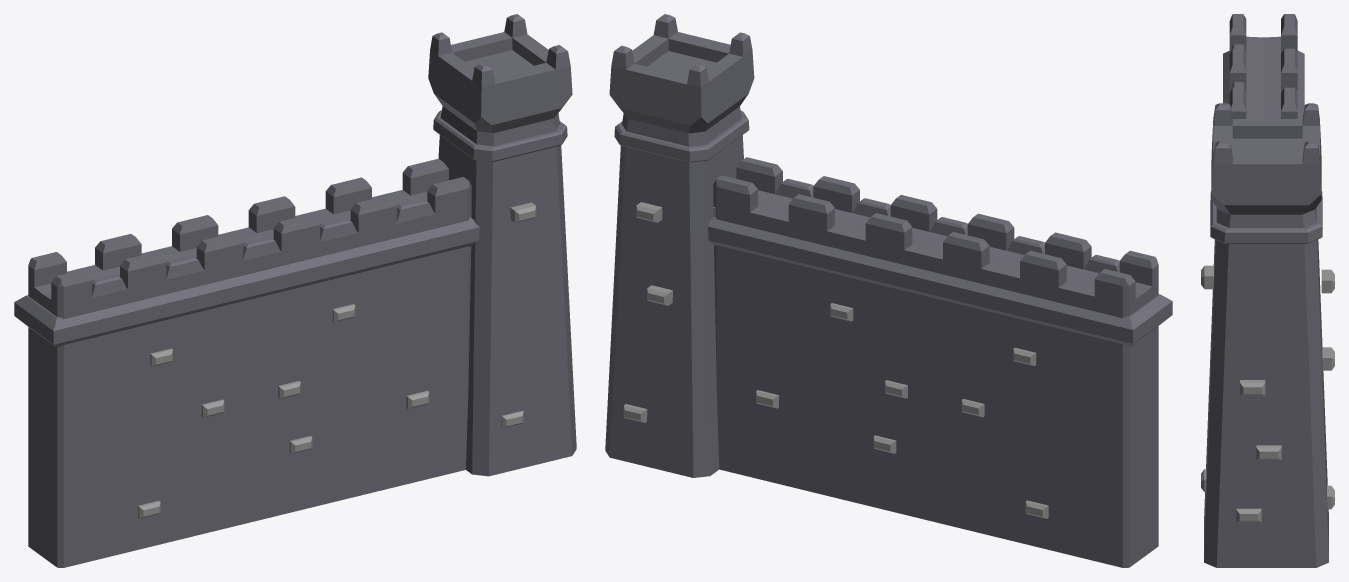
File: StoneWall#1.fbx
3 views of the same model, side by side, from view 1: azimuth 30°, elevation 25°; view 2: azimuth 150°, elevation 25°; view 3: azimuth 270°, elevation 25° (orthographic). The views are drawn at different scales.
Visible parts, largest first — view 1: Cube.005; view 2: Cube.005; view 3: Cube.005.
Boxes of the visible parts, <box> form: Cube.005: <box>14,14,576,567</box>; Cube.005: <box>605,14,1172,567</box>; Cube.005: <box>1201,14,1334,567</box>.
Size of the model in its own units: 3728 by 2749 by 797.
